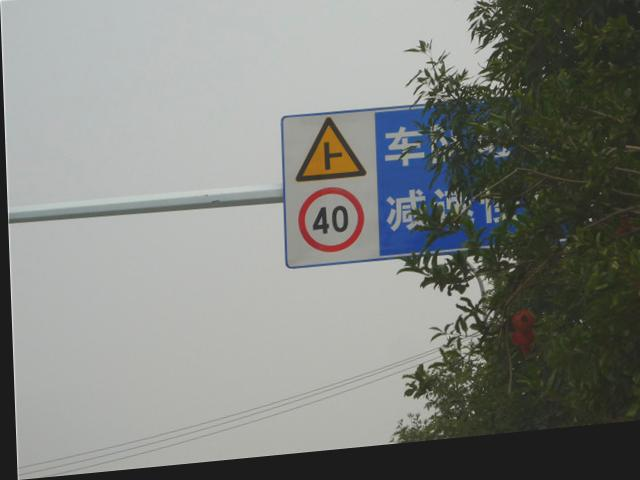limit40: (293, 191, 365, 262)
